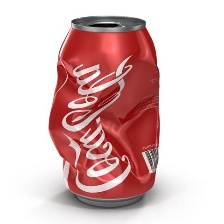can: (47, 15, 164, 214)
